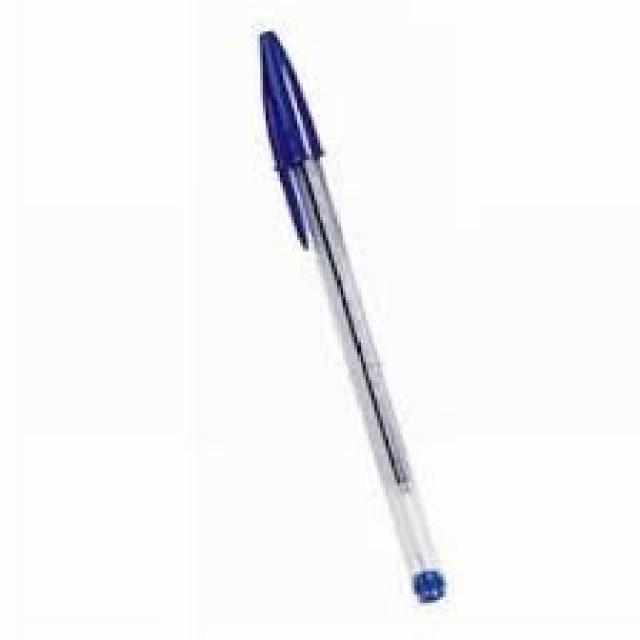pen: (259, 29, 443, 605)
